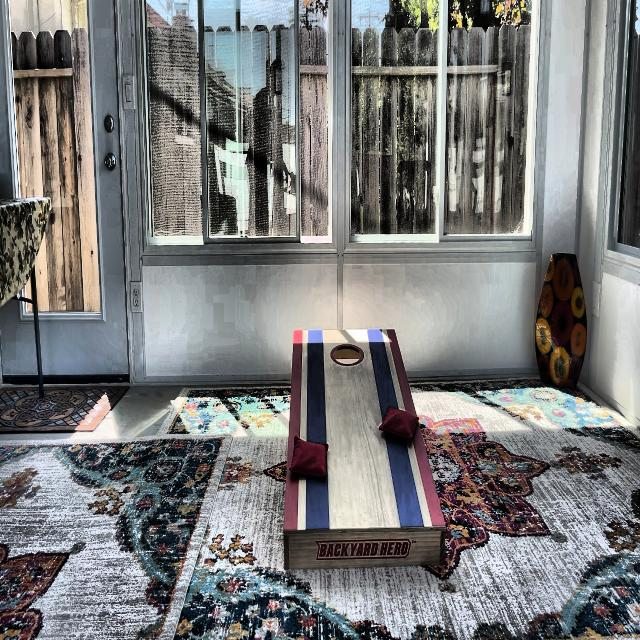board: (290, 330, 410, 530)
hole: (330, 342, 365, 367)
red-bean-bag: (288, 435, 330, 477), (379, 405, 419, 441)
